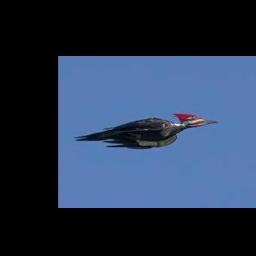Woodpecker: (74, 113, 219, 148)
